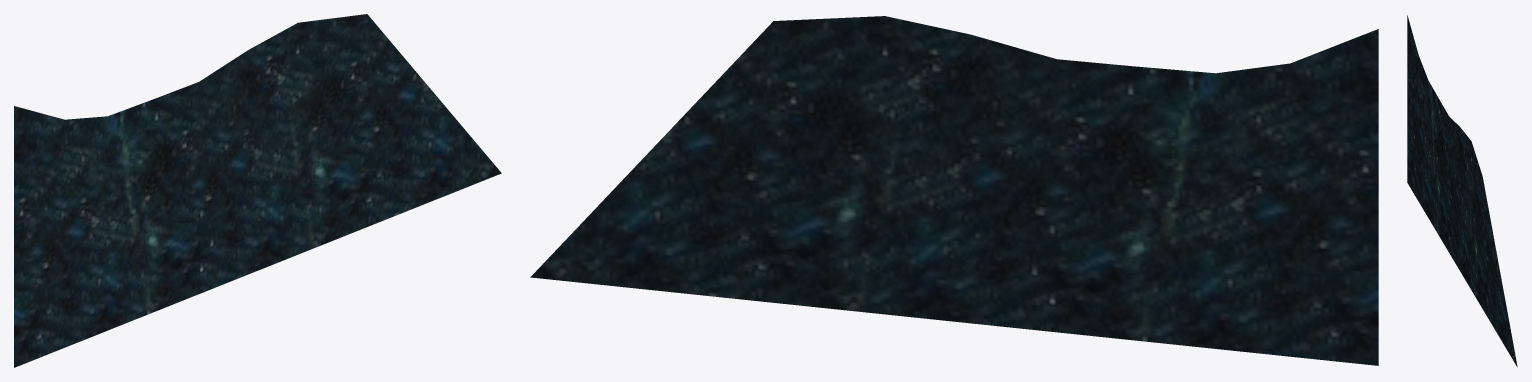
The model's file is shan10.fbx.
The picture shows the model from 3 angles, left to right: view 1: azimuth 30°, elevation 25°; view 2: azimuth 150°, elevation 25°; view 3: azimuth 270°, elevation 25°; orthographic projection. The views are drawn at different scales.
Visible parts, largest first — view 1: shan10; view 2: shan10; view 3: shan10.
Part boxes in pixels (x1,y1,x2,y2): shan10: (14, 14, 501, 367); shan10: (530, 16, 1378, 365); shan10: (1407, 15, 1517, 367).
Size of the model in its own units: 7.83 by 3.53 by 2.03.
